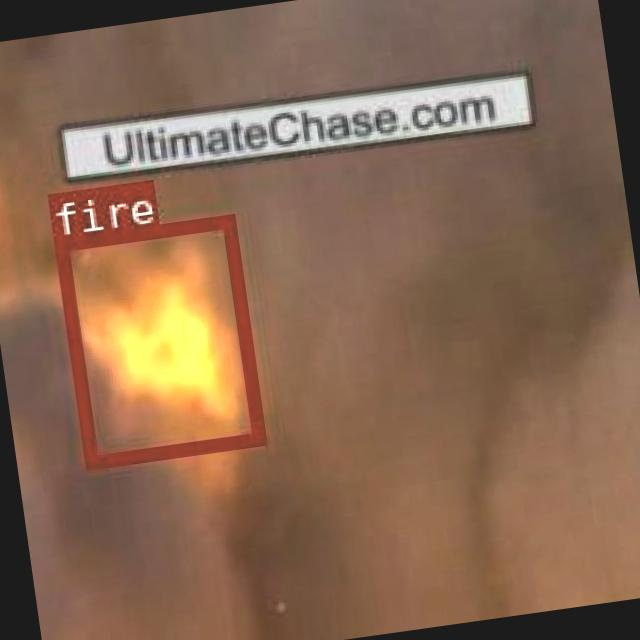fire: (51, 213, 262, 466)
